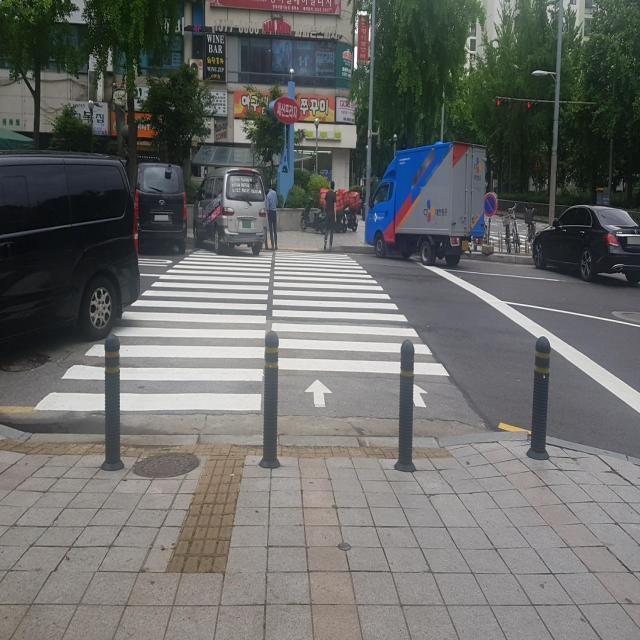횡단보도: (31, 245, 454, 416)
